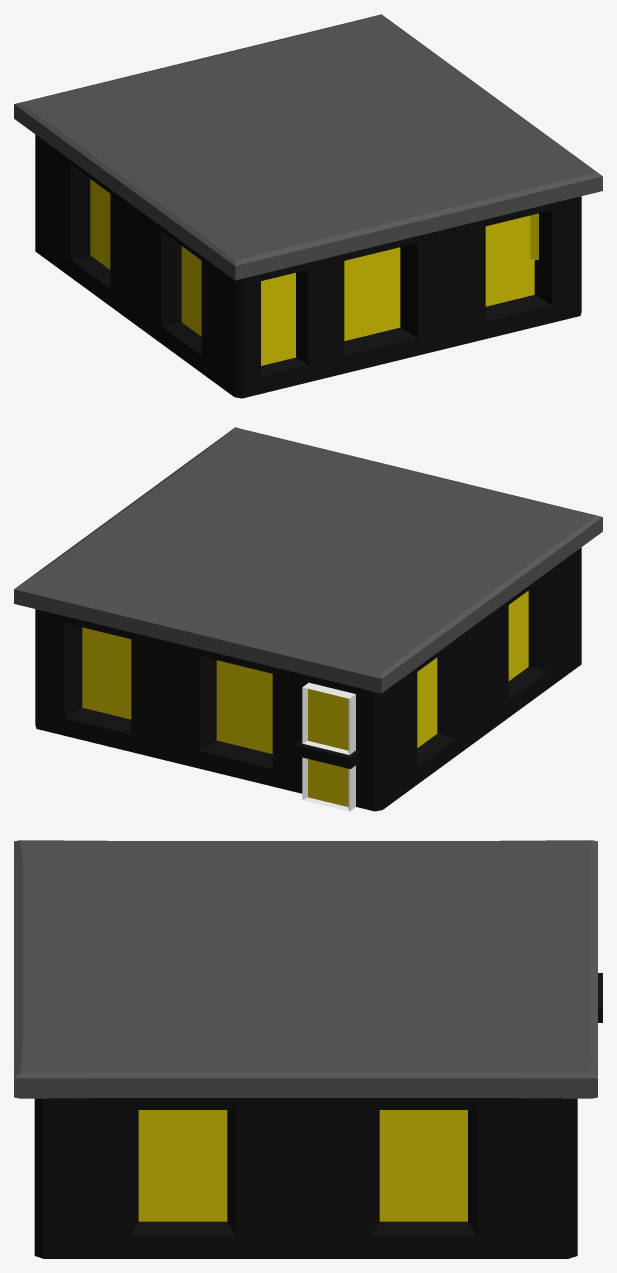
Rendered from building_01.FBX.
3 renders of one model, top to bottom at view 1: azimuth 30°, elevation 25°; view 2: azimuth 150°, elevation 25°; view 3: azimuth 270°, elevation 25°, orthographic. The views are drawn at different scales.
Parts seen in each view (by area): view 1: Box006; view 2: Box006; view 3: Box006.
Part boxes in pixels (x1,y1,x2,y2): Box006: [14, 14, 602, 398]; Box006: [14, 427, 602, 811]; Box006: [14, 840, 602, 1258].
Bounding box in the file's own units: 1330 × 499 × 1398.
